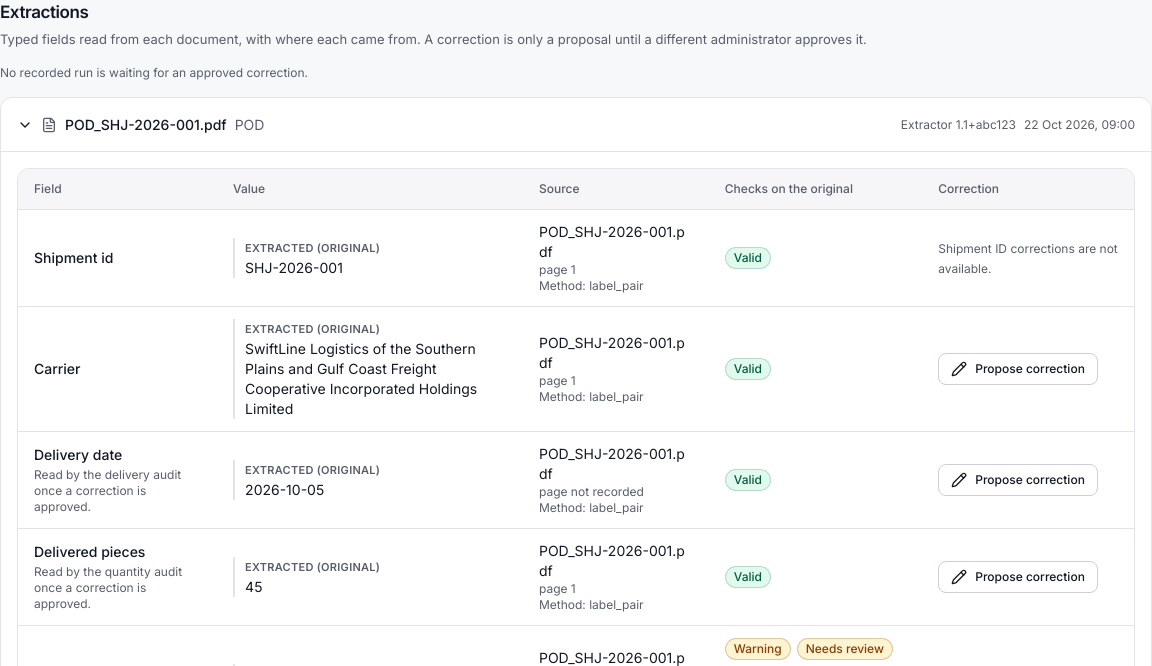
proposing a correction › shows the original value and what approval would change
Expected: the text "Delivered pieces" is shown, x1=34 y1=542 x2=145 y2=560
Click the button with aria-label "Propose a correction for Delivered pieces".
click(1018, 576)  # box x1=938 y1=560 x2=1098 y2=592
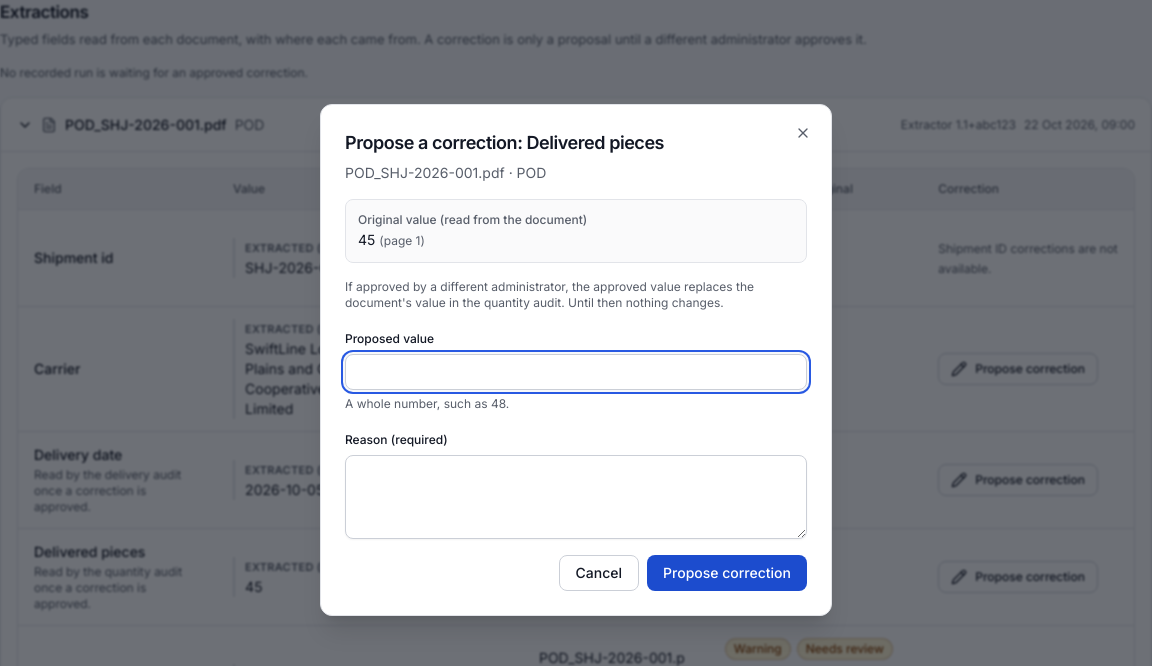
Result: the element with test id "original-value" shows "45" at x1=358 y1=231 x2=375 y2=248
Result: the element with test id "original-value" shows "page 1" at x1=384 y1=233 x2=420 y2=248
Result: the text "replaces the document's value in the quantity audit" is shown at x1=345 y1=279 x2=754 y2=310
